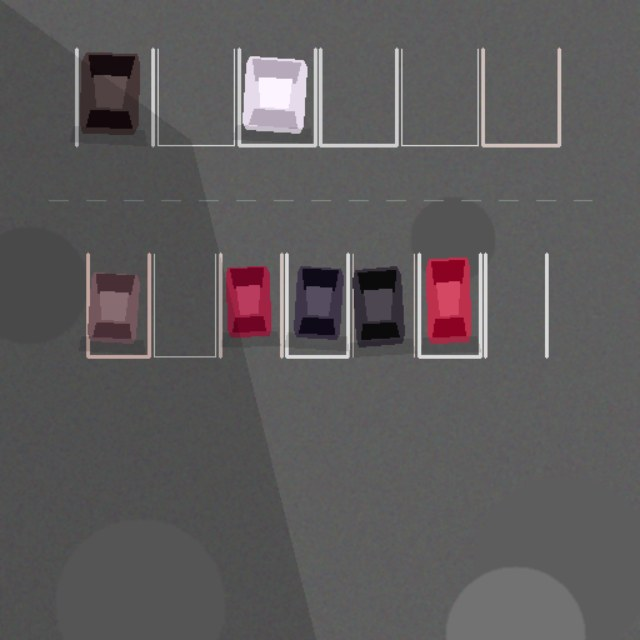space-empty: (157, 49, 234, 145), (320, 49, 396, 145), (401, 49, 477, 145), (483, 49, 559, 145), (154, 254, 215, 356), (485, 254, 546, 356)
space-occupied: (76, 49, 153, 145), (239, 49, 315, 145), (87, 254, 149, 356), (220, 254, 281, 356), (286, 254, 347, 356), (353, 254, 414, 356), (419, 254, 480, 356)
